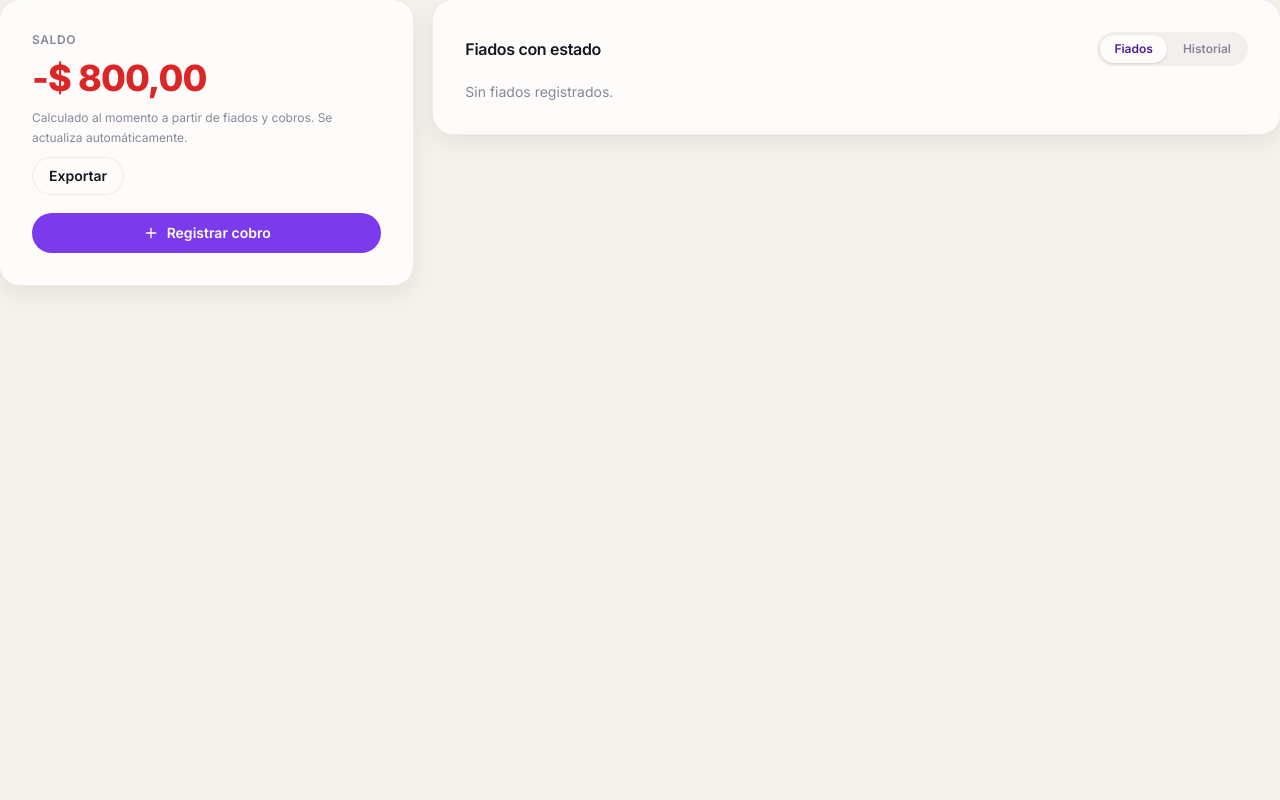
CuentaCorrienteCliente — the cobro action is absent, not disabled, when there is nothing to collect › clicking "Registrar cobro" opens the CobroFormDialog (task 9.4)
The image size is (1280, 800).
Click the button "Registrar cobro".
click(207, 233)  # box [32, 213, 381, 253]
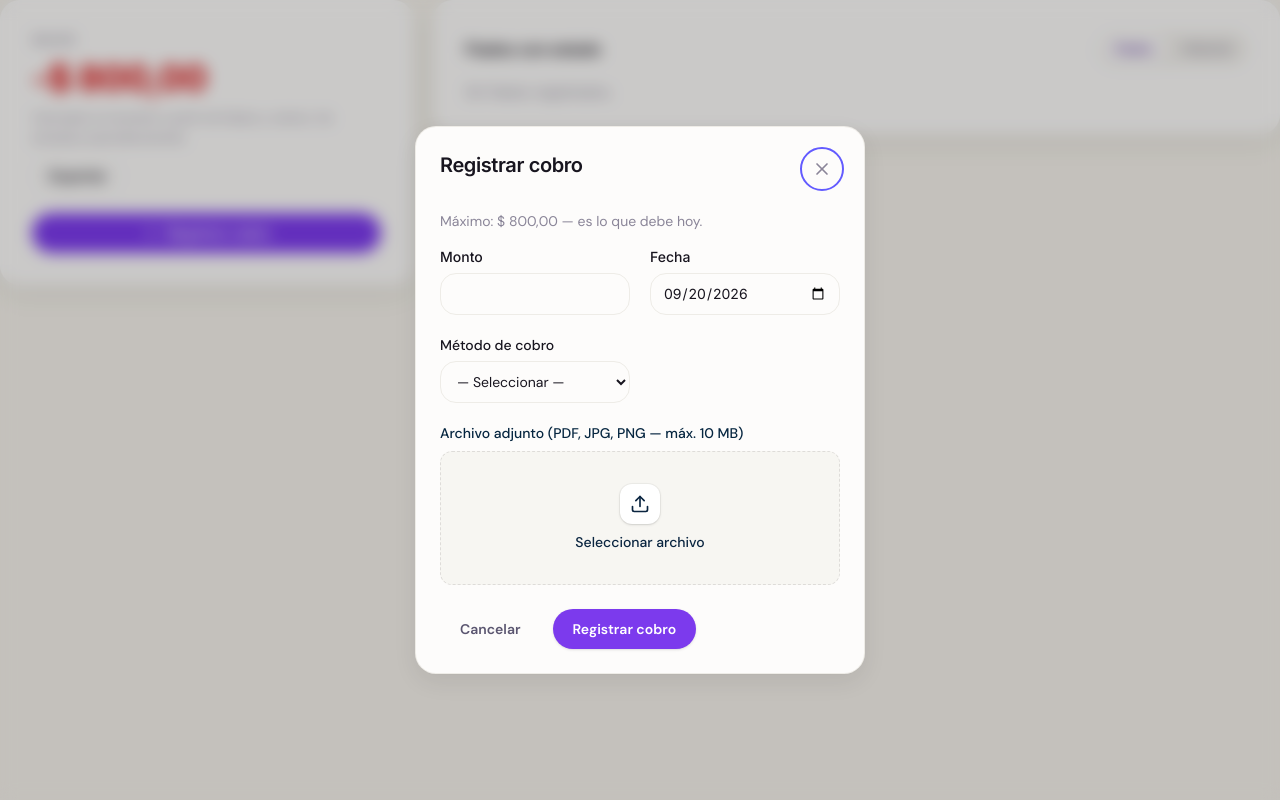
Check: the dialog is shown, box [416, 127, 864, 673]
